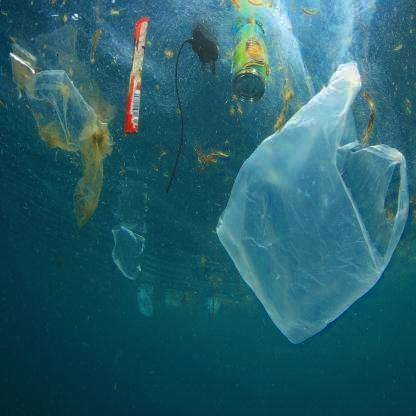can: (231, 16, 268, 106)
electronics: (165, 20, 220, 197)
pbag: (217, 60, 410, 346), (23, 68, 115, 230), (110, 223, 146, 282), (136, 287, 154, 321)
plastic: (124, 14, 151, 140)
